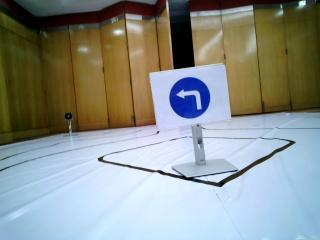left: (154, 76, 227, 123)
